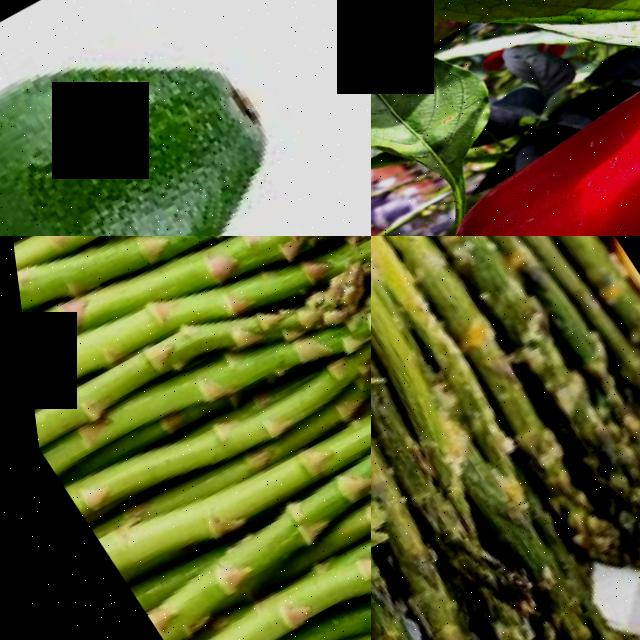asparagus: (144, 341, 371, 586), (165, 445, 371, 640), (31, 236, 358, 357), (181, 265, 371, 423), (0, 236, 315, 326), (0, 236, 333, 307), (165, 236, 371, 348), (197, 536, 371, 640)
avocado: (0, 0, 371, 236)
bell pepper: (390, 27, 640, 236)
